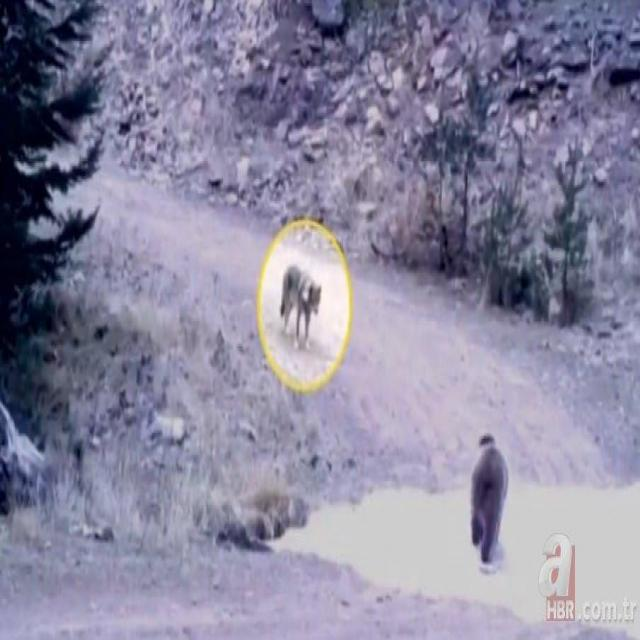Bear: (470, 434, 509, 577), (280, 267, 323, 345)
